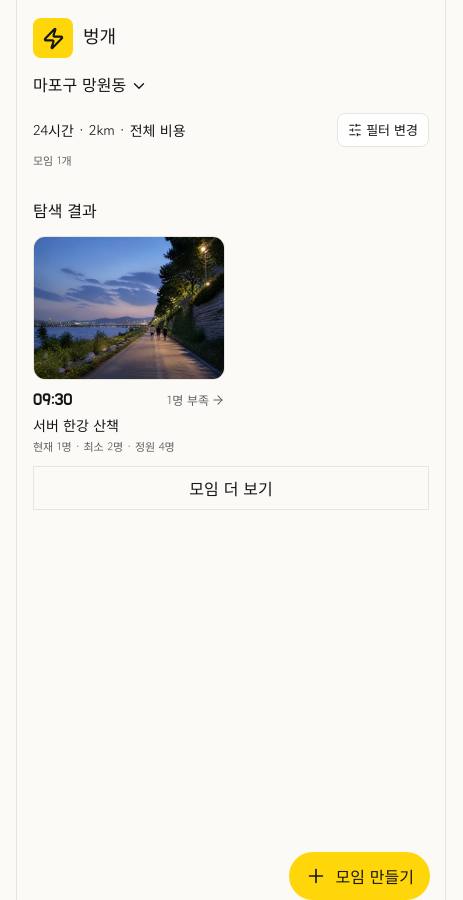
Test: authenticated discovery API › preserves the loaded page and retries the same cursor after a pagination failure
This screenshot has width=463, height=900.
Expected: the link "09:30 1명 부족 서버 한강 산책 현재 1명 · 최소 2명 · 정원 4명" is shown, [33,236,225,454]
Click the button "모임 더 보기" at (231, 488), box [33,466,429,510]
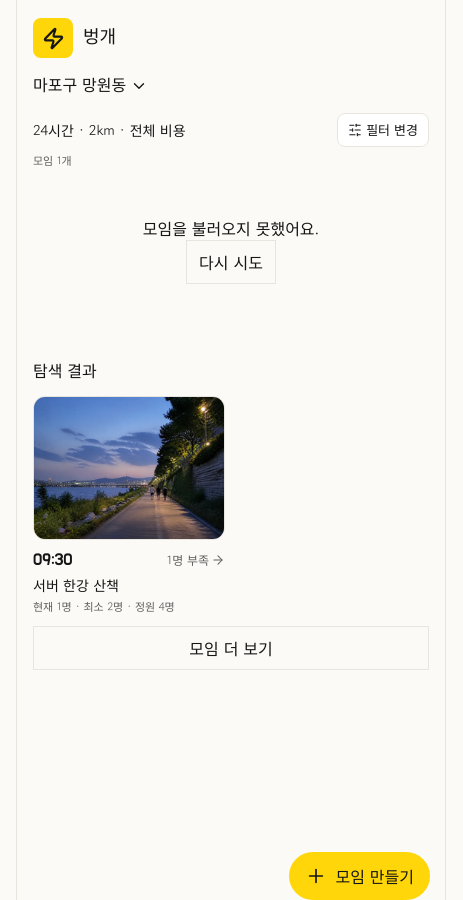
Expected: the link "09:30 1명 부족 서버 한강 산책 현재 1명 · 최소 2명 · 정원 4명" is shown, [33,396,225,614]
Result: the message shows "모임을 불러오지 못했어요" at [143,216,319,240]
Click the button "다시 시도" at (231, 262), box [186,240,276,284]
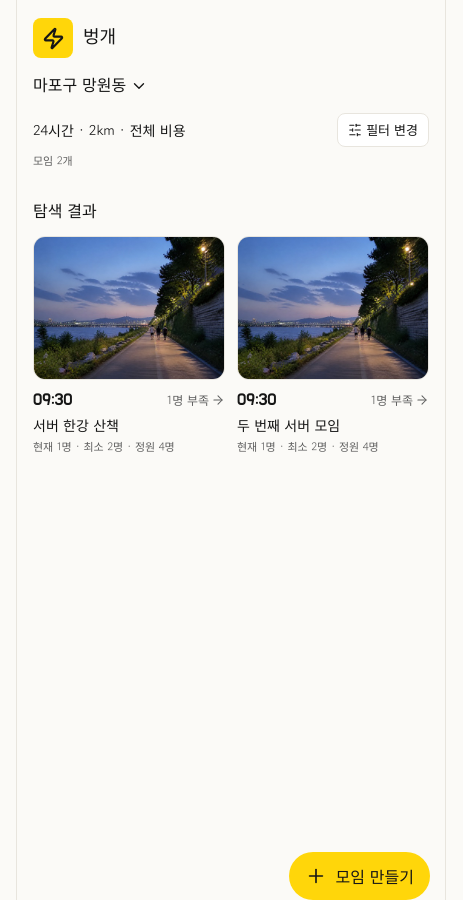
Result: the link "09:30 1명 부족 두 번째 서버 모임 현재 1명 · 최소 2명 · 정원 4명" is shown at [237,236,429,454]
